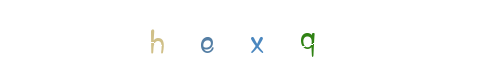E: (191, 0, 271, 80)
H: (164, 0, 244, 80)
Q: (268, 0, 348, 80)
X: (210, 0, 290, 80)
